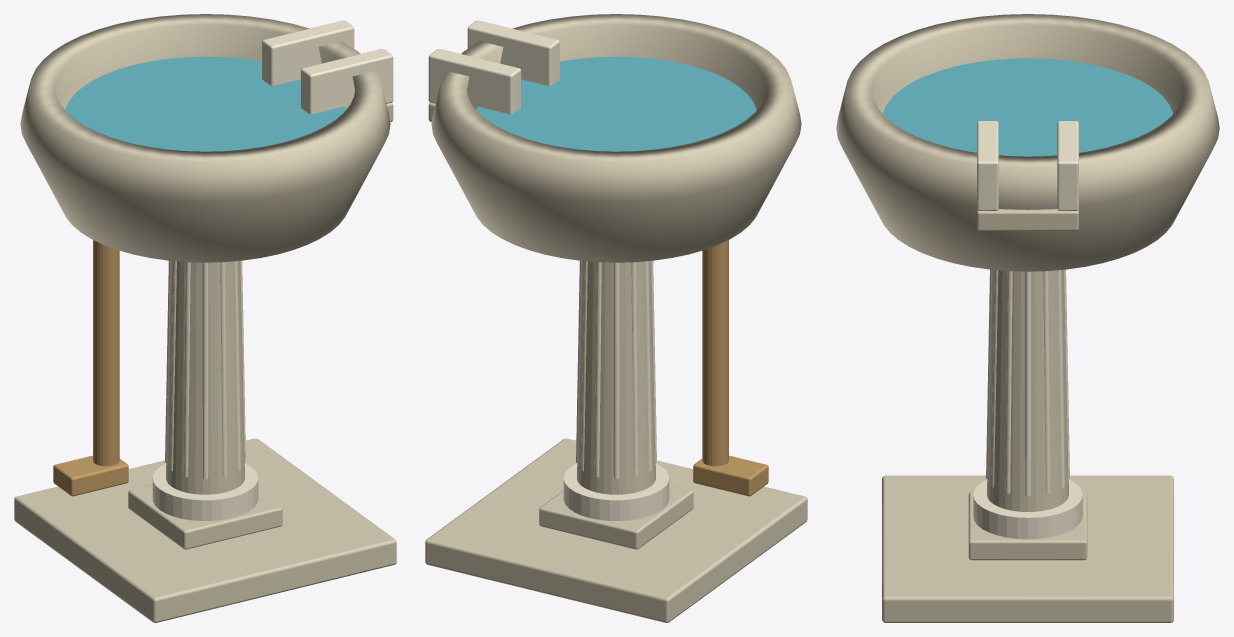
The model's file is fantasy-bathhouse-and-thermal-sanctuary-fantasy-bathho-1bd2f2ba__29446.glb.
3 views of the same model, side by side, from view 1: azimuth 30°, elevation 25°; view 2: azimuth 150°, elevation 25°; view 3: azimuth 270°, elevation 25° (orthographic). The views are drawn at different scales.
Parts seen in each view (by area): view 1: fantasy-bathhouse-and-thermal-sanctuary-mineral-settling-cis (×4); view 2: fantasy-bathhouse-and-thermal-sanctuary-mineral-settling-cis (×4); view 3: fantasy-bathhouse-and-thermal-sanctuary-mineral-settling-cis (×3).
Part boxes in pixels (left/top/right/bottom): fantasy-bathhouse-and-thermal-sanctuary-mineral-settling-cis (×4): left=14, top=14, right=396, bottom=622; fantasy-bathhouse-and-thermal-sanctuary-mineral-settling-cis (×4): left=425, top=14, right=807, bottom=622; fantasy-bathhouse-and-thermal-sanctuary-mineral-settling-cis (×3): left=836, top=14, right=1219, bottom=622.
Size of the model in its own units: 2.12 by 2.92 by 2.1.
